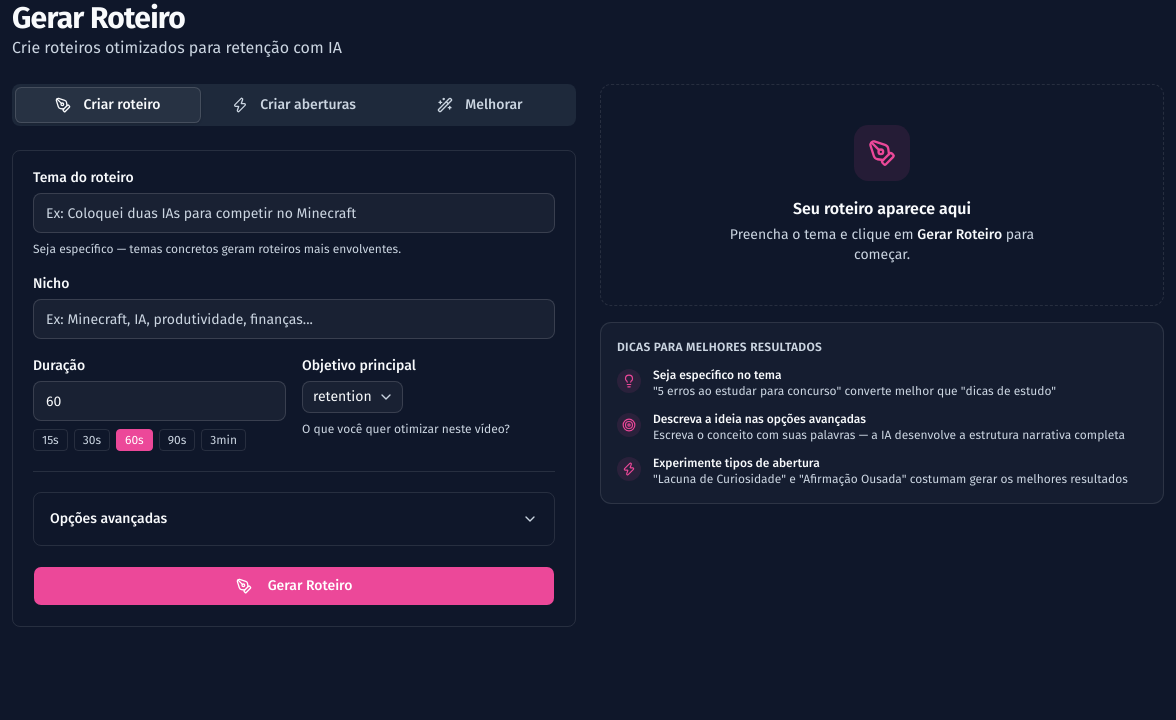
Scenario: Generate Page — resultado de geração › 13. pontos para melhorar estão nos painéis colapsados
In the field labelled "Tema do roteiro": (294, 213) [33,193,555,233], type "Teste pontos"
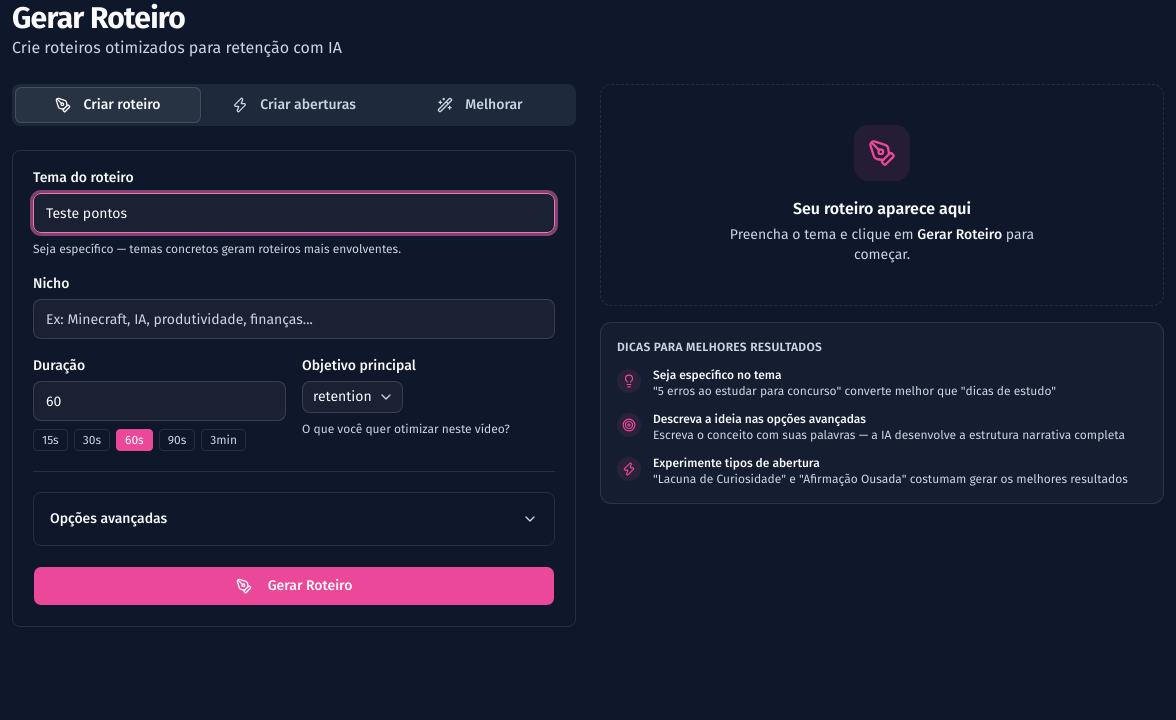
In the field labelled "Nicho": (294, 319) [33,299,555,339], type "Tech"
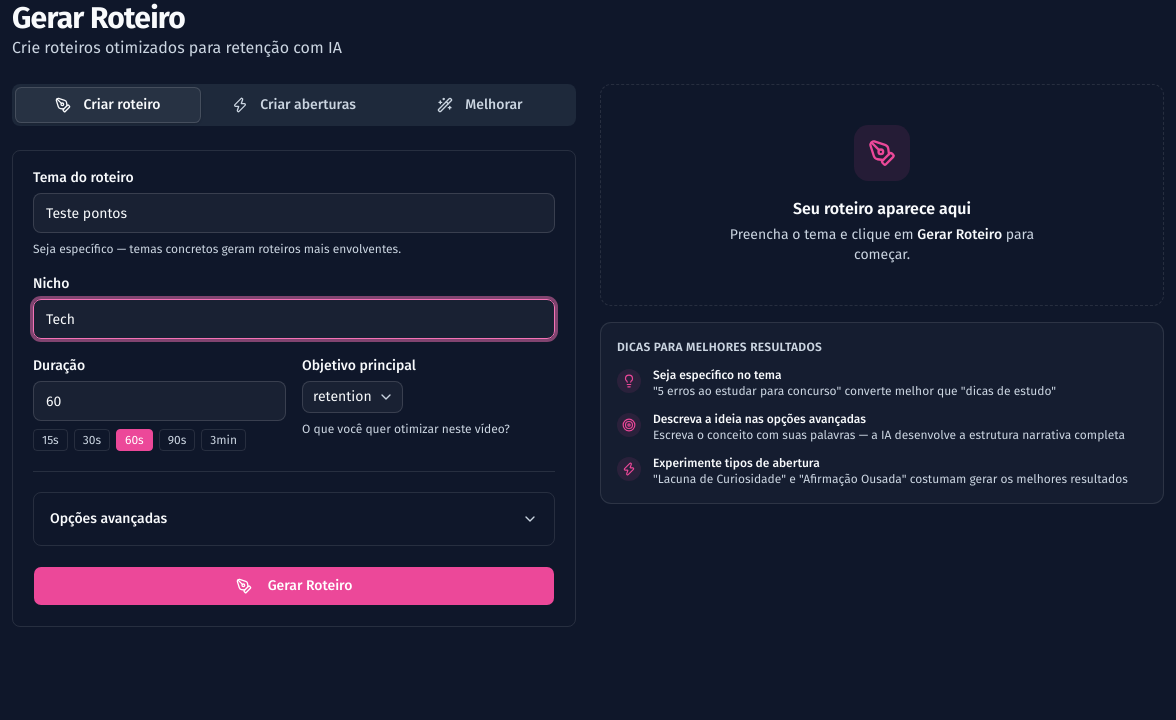
Click the button with test id "gen-submit-btn": (294, 586) [33,566,555,606]
(page scrolled)
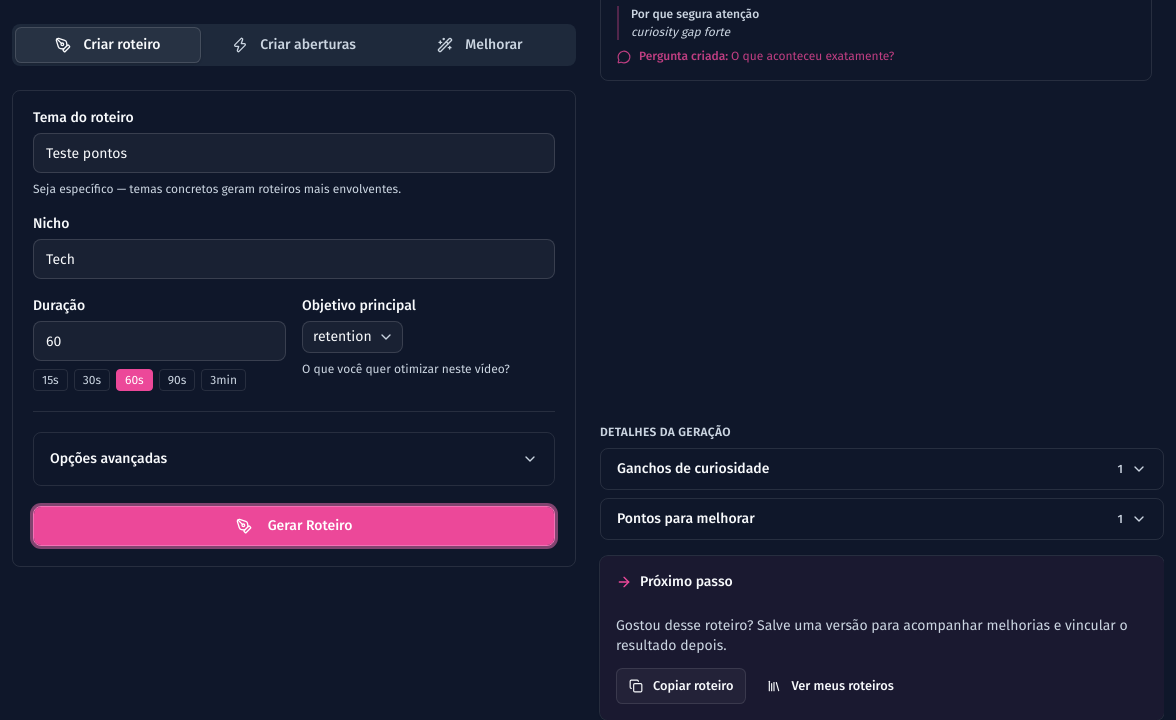
Now the text "Pontos para melhorar" is shown, box [617,509,755,529]
